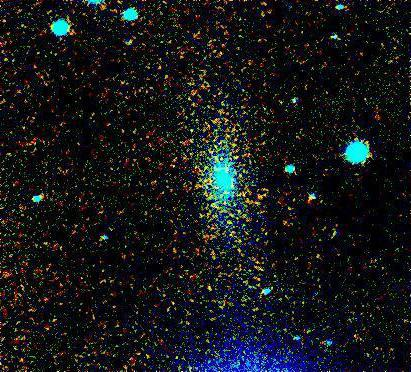star: (195, 269, 225, 299)
